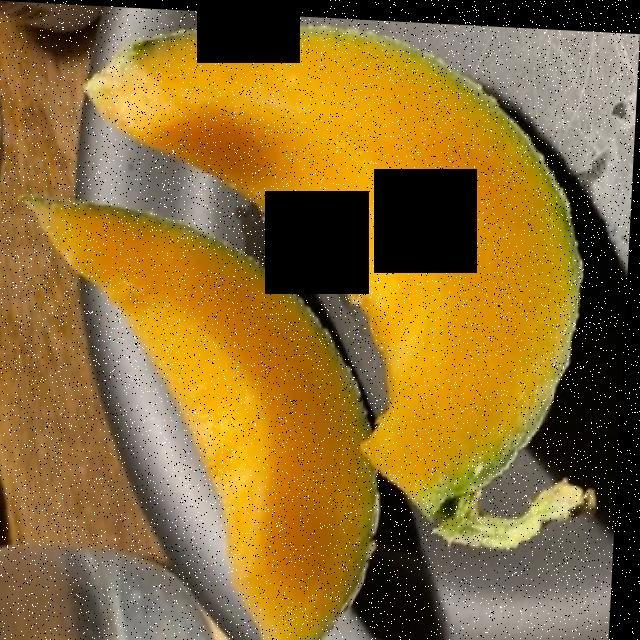melon: (35, 28, 567, 640)
